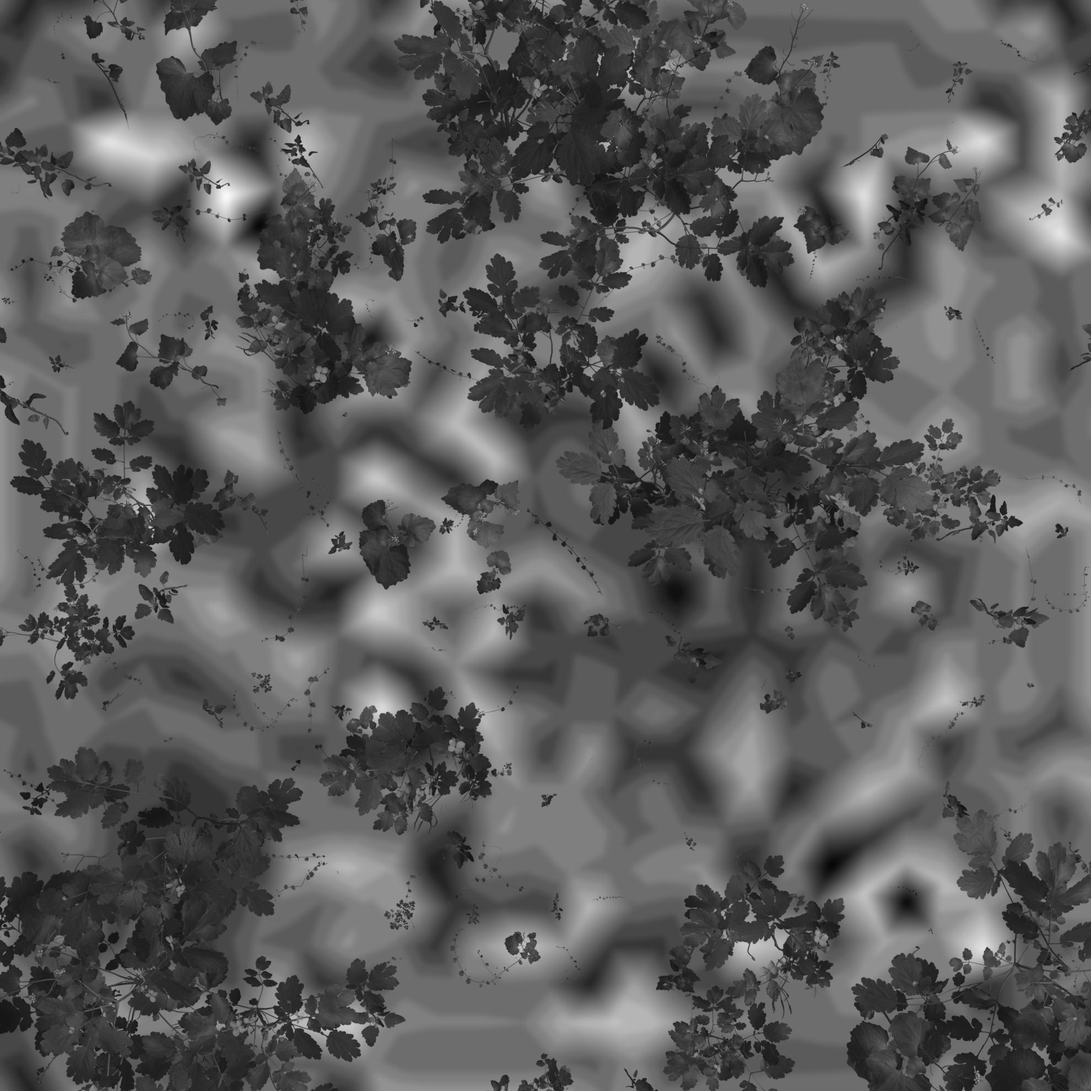landmine: (630, 551, 718, 640)
